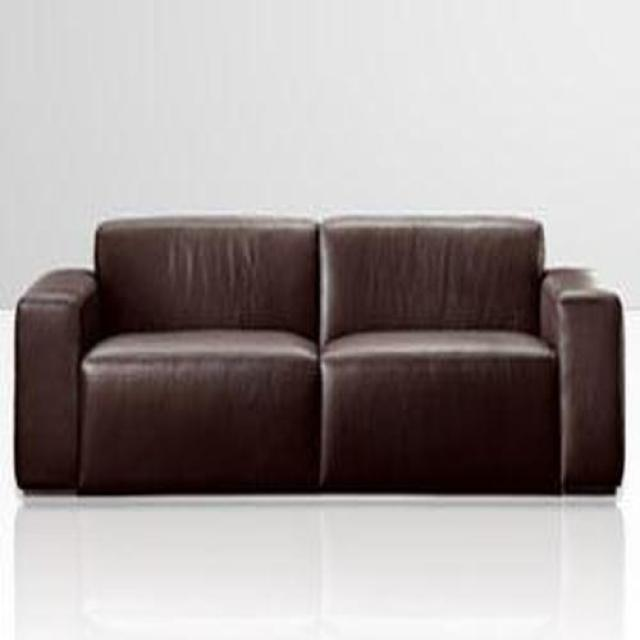sofa: (13, 214, 625, 497)
